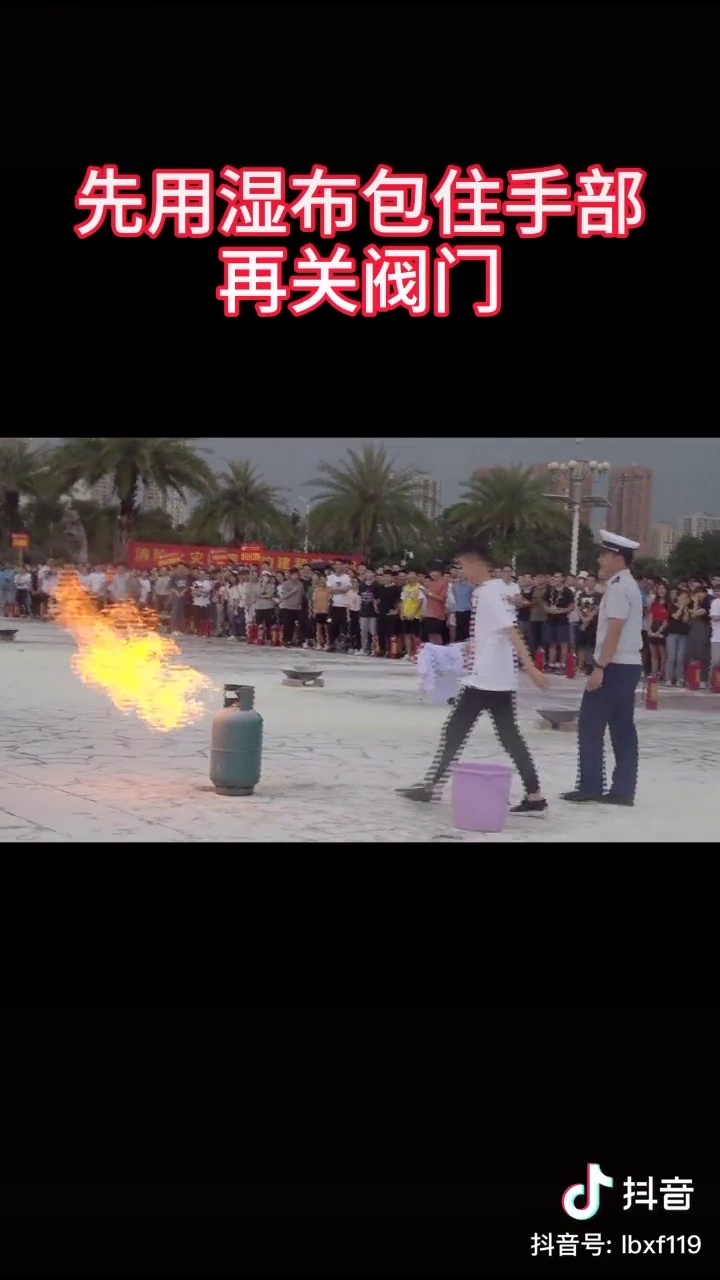fire: (47, 563, 211, 730)
